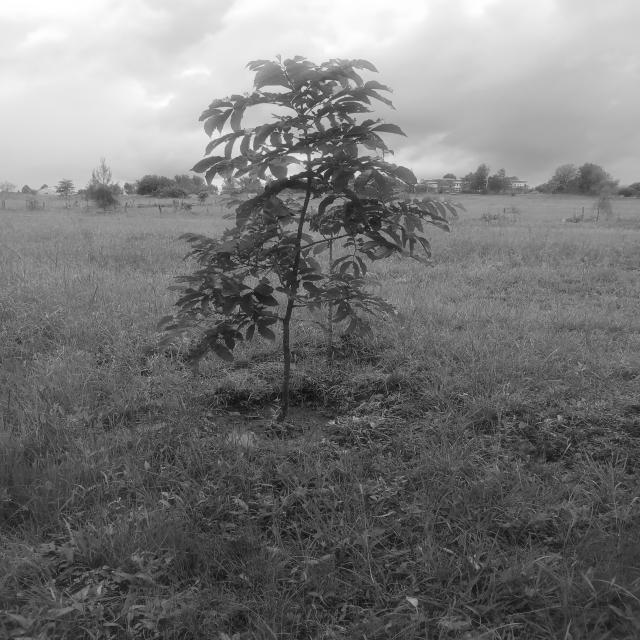Polyscias Kikuyensis: (166, 51, 473, 424)
